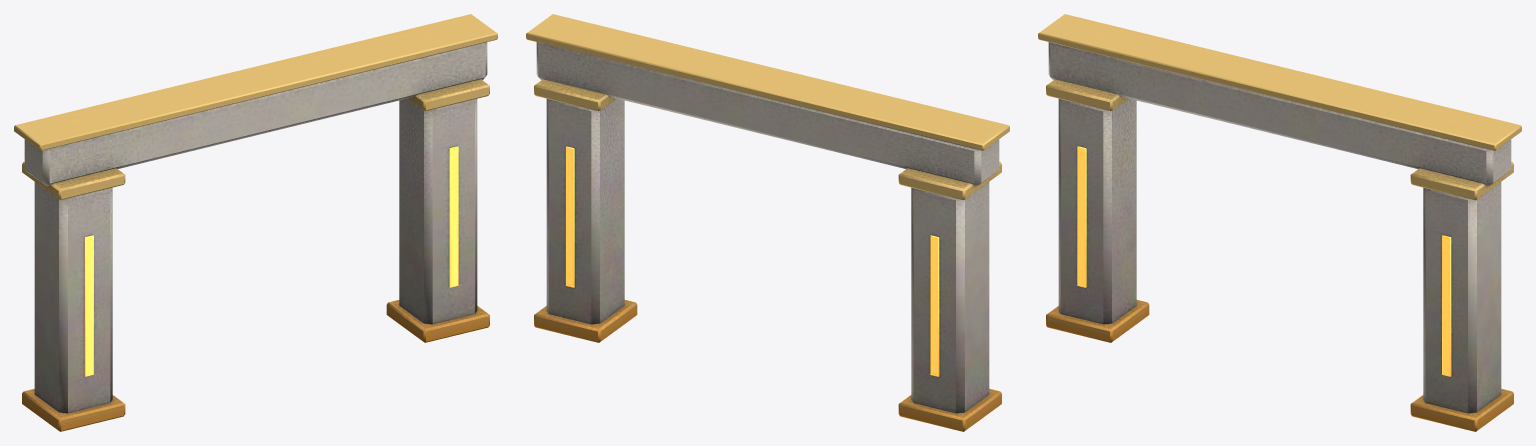
File: hub_arch.glb
The picture shows the model from 3 angles, left to right: view 1: azimuth 30°, elevation 25°; view 2: azimuth 150°, elevation 25°; view 3: azimuth 330°, elevation 25°; orthographic projection.
Parts seen in each view (by area): view 1: hub_arch; view 2: hub_arch; view 3: hub_arch.
Boxes of the visible parts, <box> form: hub_arch: <box>14,14,497,431</box>; hub_arch: <box>526,14,1009,431</box>; hub_arch: <box>1038,14,1521,431</box>.
Bounding box in the file's own units: 20.6 × 12.35 × 3.
1 material, 1 textured.
